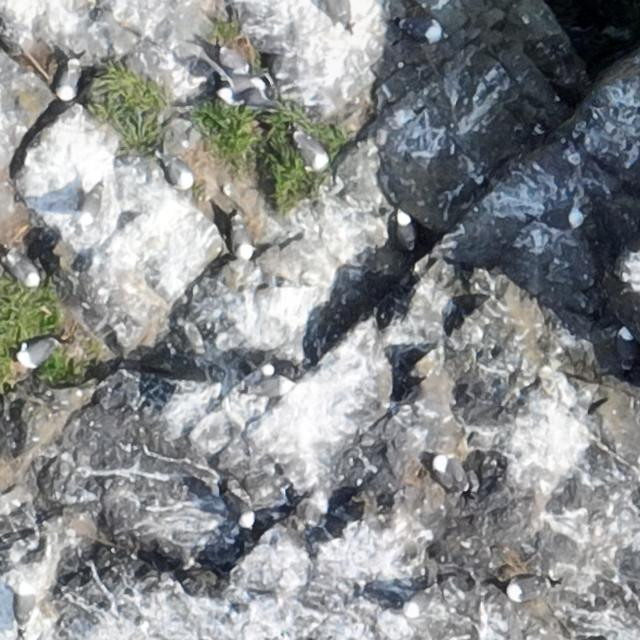F: (212, 50, 274, 112)
umineko: (222, 485, 258, 528), (242, 374, 294, 401), (159, 152, 196, 189), (298, 130, 326, 171), (228, 213, 252, 260), (78, 184, 104, 224), (539, 209, 582, 230), (20, 339, 52, 365), (506, 578, 542, 600), (404, 20, 442, 40), (403, 588, 431, 614), (434, 458, 458, 488), (11, 259, 39, 283), (58, 67, 76, 99), (616, 330, 634, 360), (398, 216, 414, 247)
